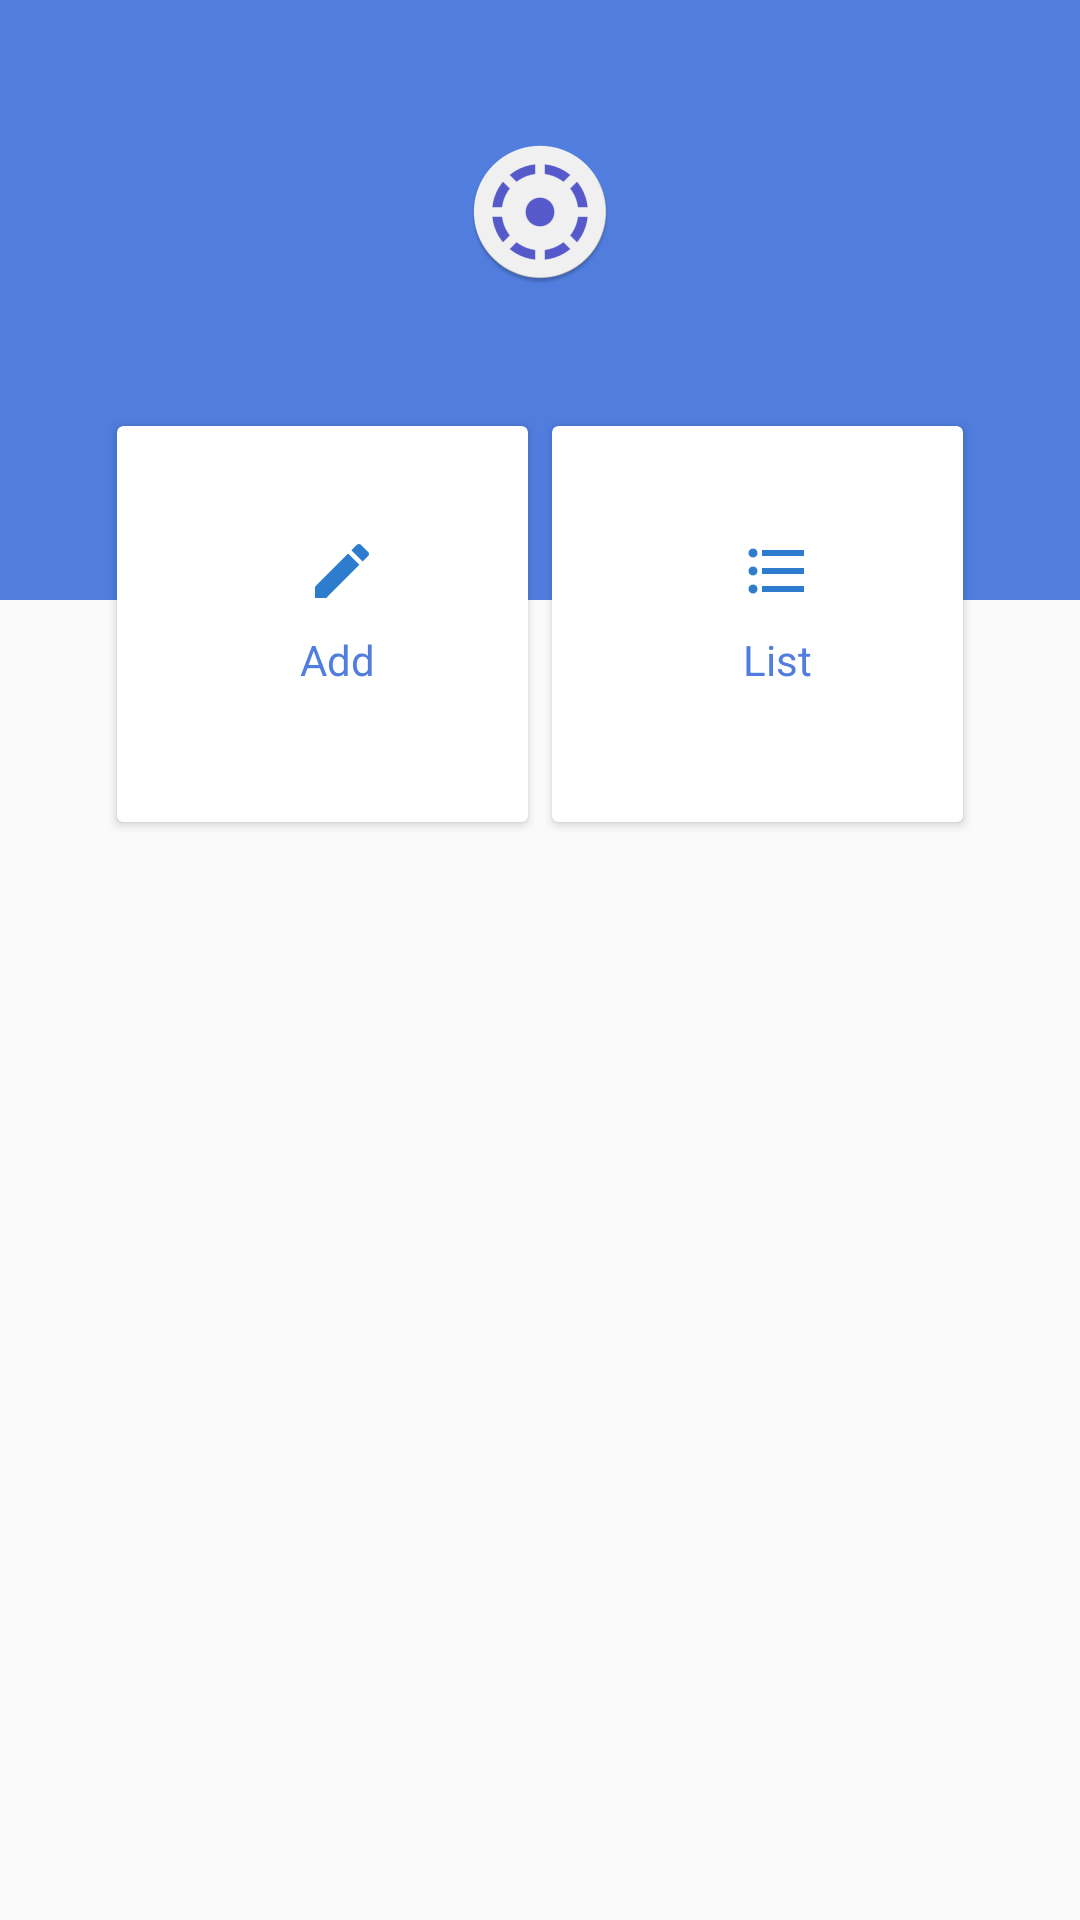

Icons on this 1080px x 1920px Android screen, each with its box as [x1=x1, y1=y1, x2=x2, y2=y2]:
edit: [x1=315, y1=544, x2=369, y2=598]
